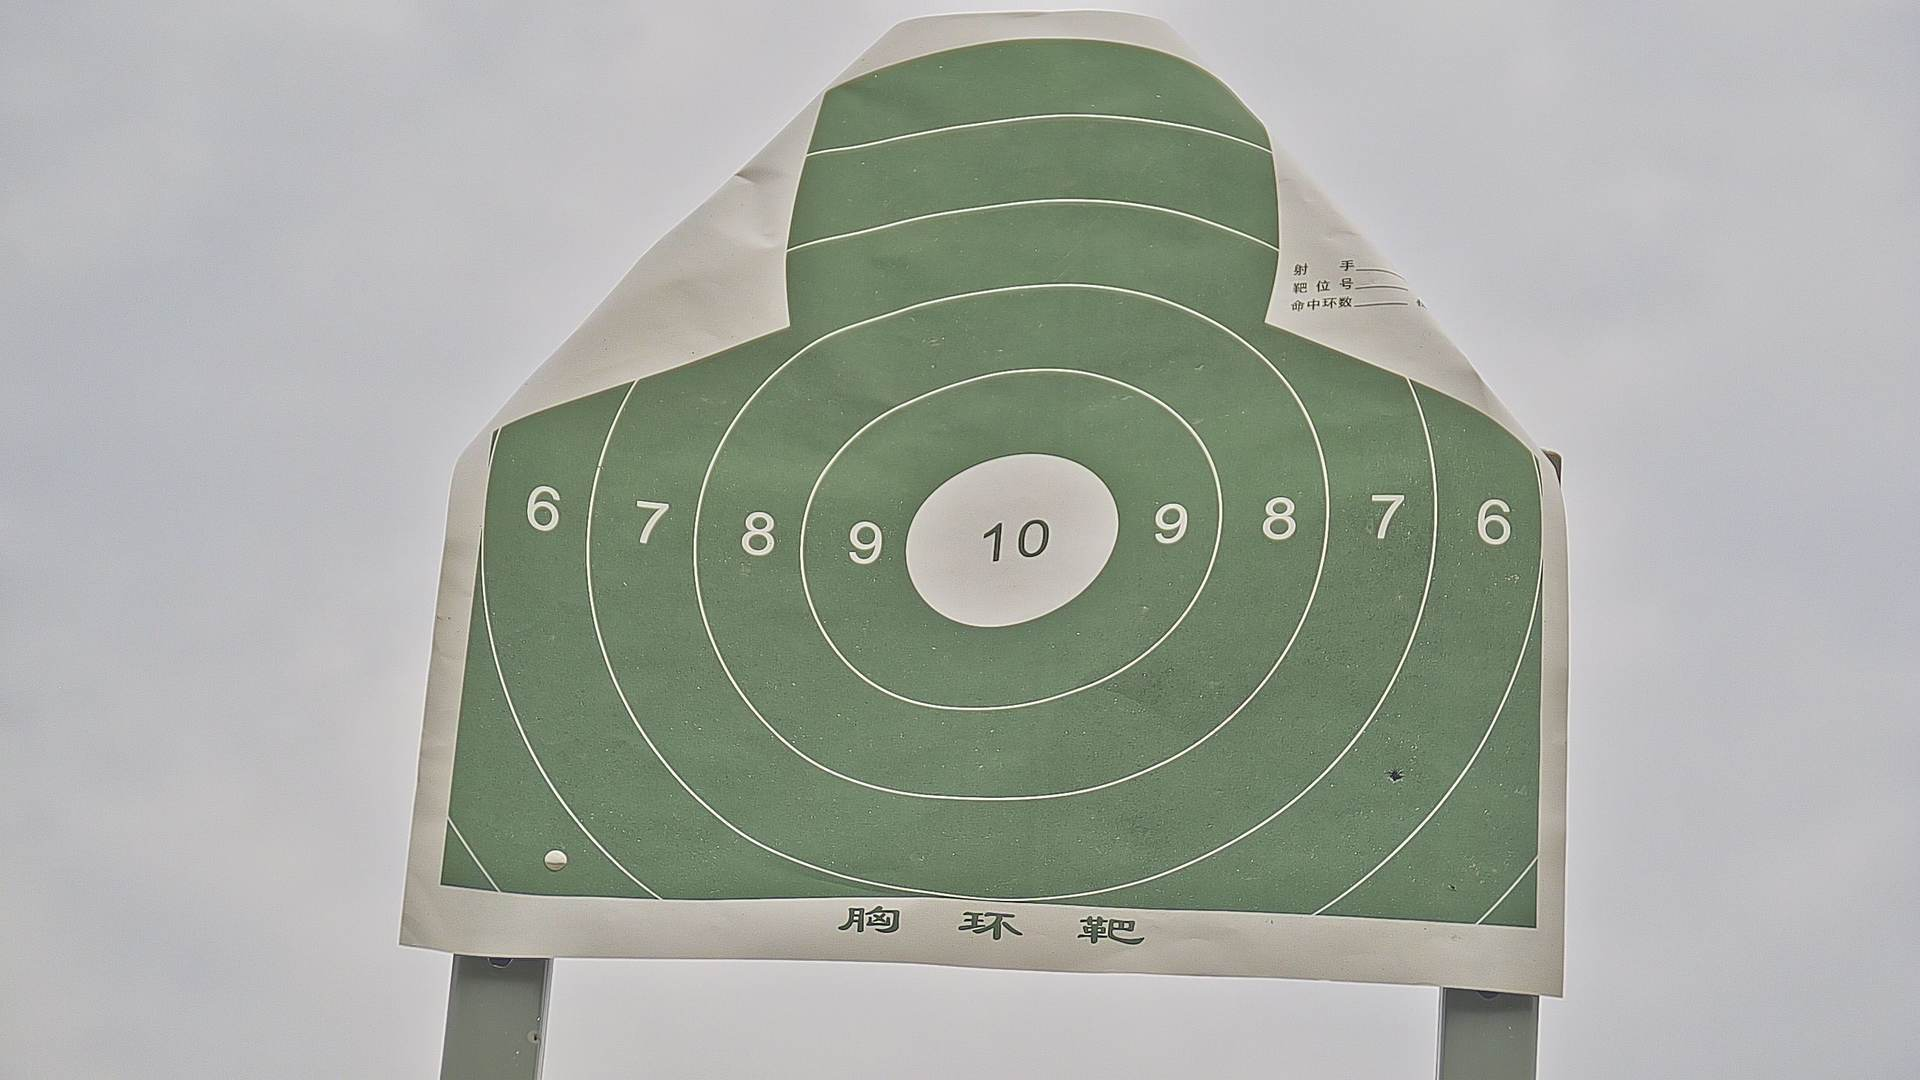hole: (1389, 767, 1400, 783)
kernel: (1007, 541, 1015, 549)
target: (442, 41, 1544, 938)
ten: (909, 455, 1121, 625)
